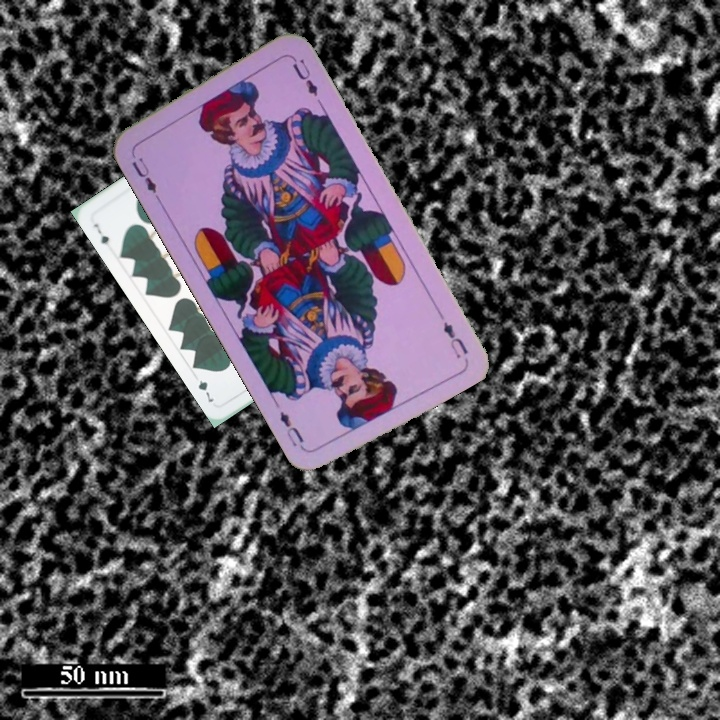EU: (439, 317, 471, 361), (127, 153, 159, 196)
G7: (89, 220, 112, 252)
